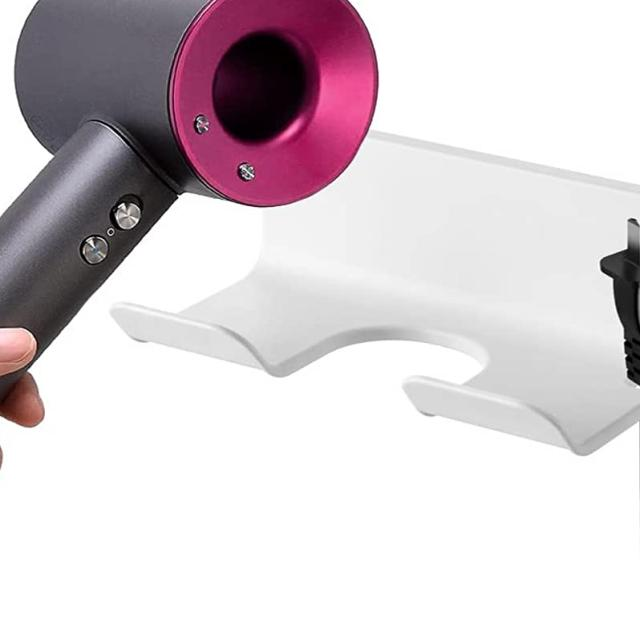dryer: (1, 0, 390, 409)
